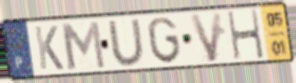G: (145, 15, 183, 65)
H: (225, 7, 267, 62)
K: (33, 24, 66, 71)
M: (58, 19, 108, 72)
U: (106, 17, 148, 68)
V: (187, 10, 224, 65)
